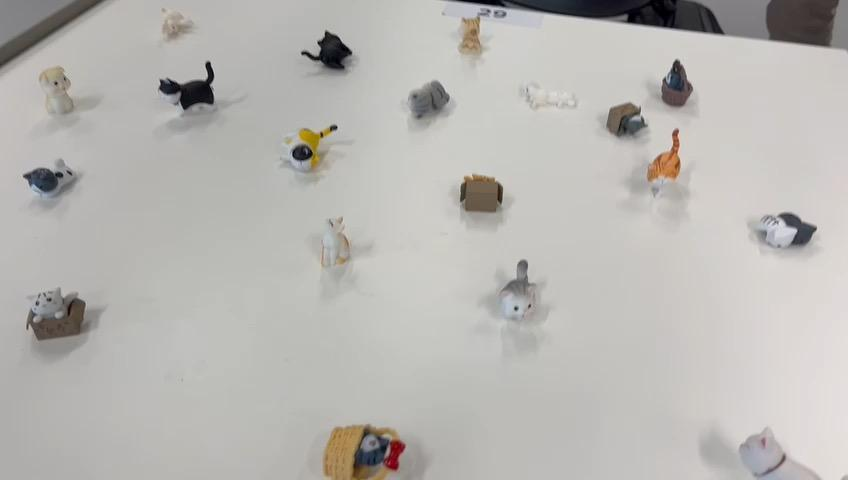pet: (735, 421, 848, 480), (320, 419, 405, 480), (21, 281, 91, 345), (153, 55, 222, 119), (275, 121, 341, 173), (644, 125, 688, 201), (745, 209, 820, 252), (17, 152, 81, 201), (494, 256, 541, 319), (296, 26, 359, 72), (402, 76, 456, 124), (457, 166, 507, 216), (315, 213, 357, 272), (519, 75, 581, 114), (39, 56, 74, 122), (659, 53, 696, 110), (604, 99, 652, 140), (152, 0, 196, 44), (454, 14, 488, 60)
